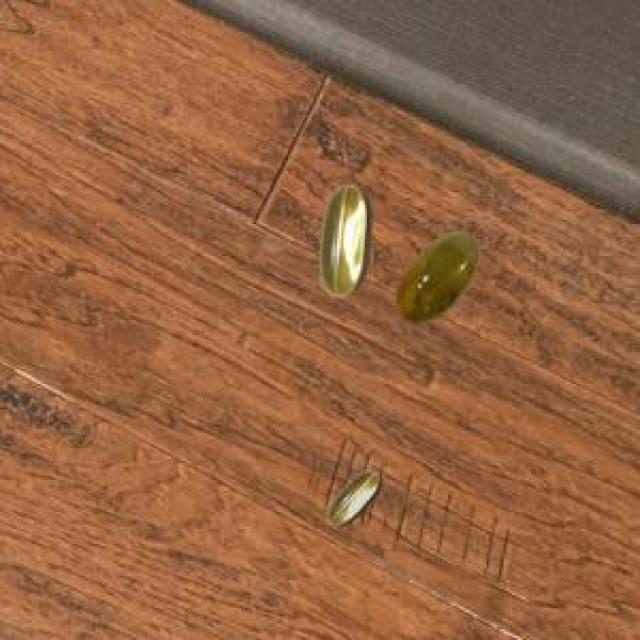Fish_Oil: (388, 213, 492, 334), (301, 164, 384, 309), (320, 454, 399, 538)
